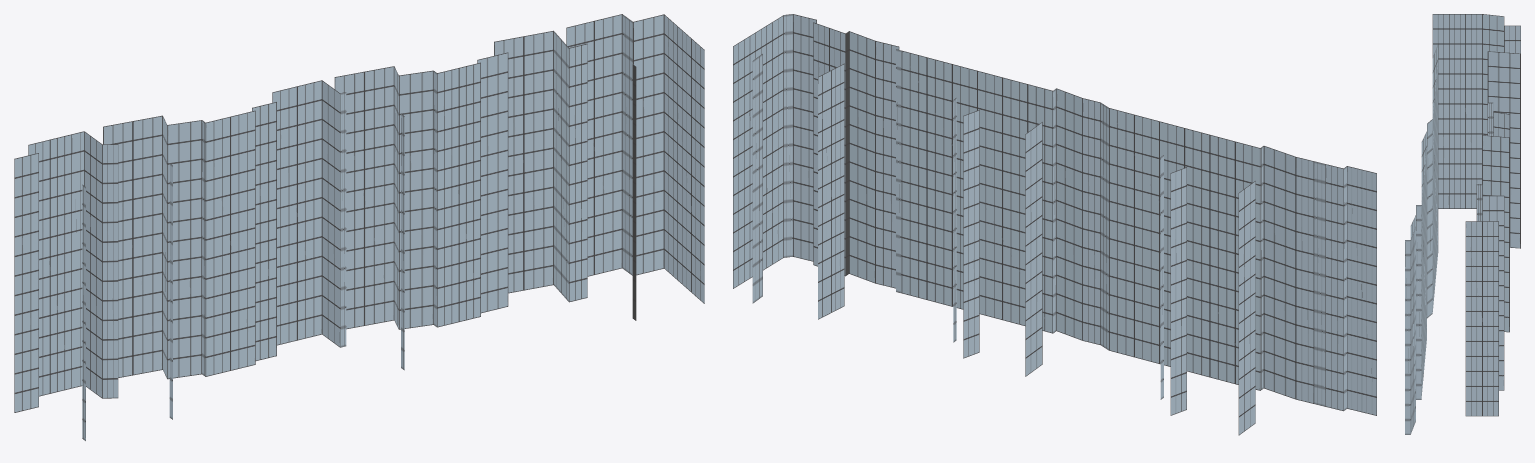
Rendered from glass2.gltf.
The picture shows the model from 3 angles, left to right: view 1: azimuth 30°, elevation 25°; view 2: azimuth 150°, elevation 25°; view 3: azimuth 270°, elevation 25°; orthographic projection. The views are drawn at different scales.
Bounding box in the file's own units: 103 × 39 × 21.
2 materials, 1 textured.
